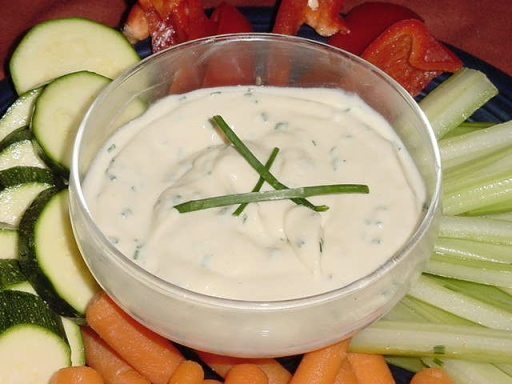background: (0, 0, 410, 230)
